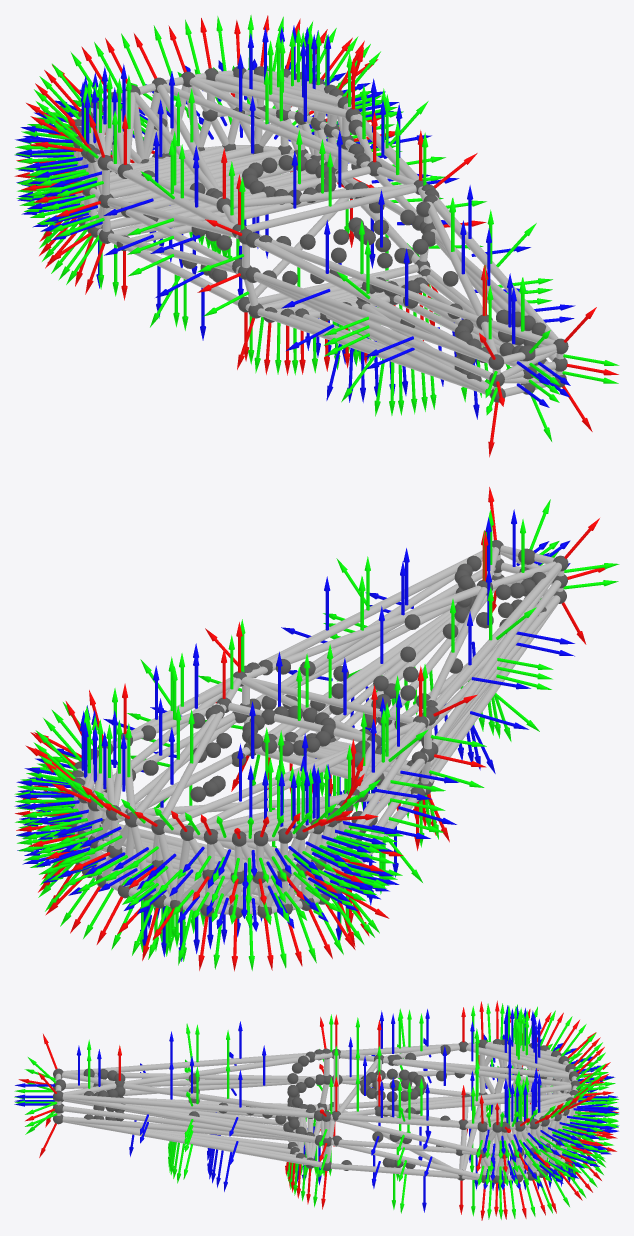
File: t2f_guitar.gltf
3 renders of one model, top to bottom at view 1: azimuth 30°, elevation 25°; view 2: azimuth 150°, elevation 25°; view 3: azimuth 270°, elevation 25°, orthographic. The views are drawn at different scales.
Size of the model in its own units: 0.5127 by 0.2643 by 1.09.
